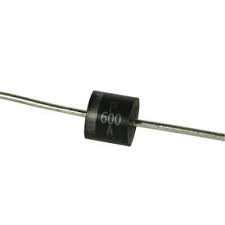diode: (52, 75, 171, 178)
